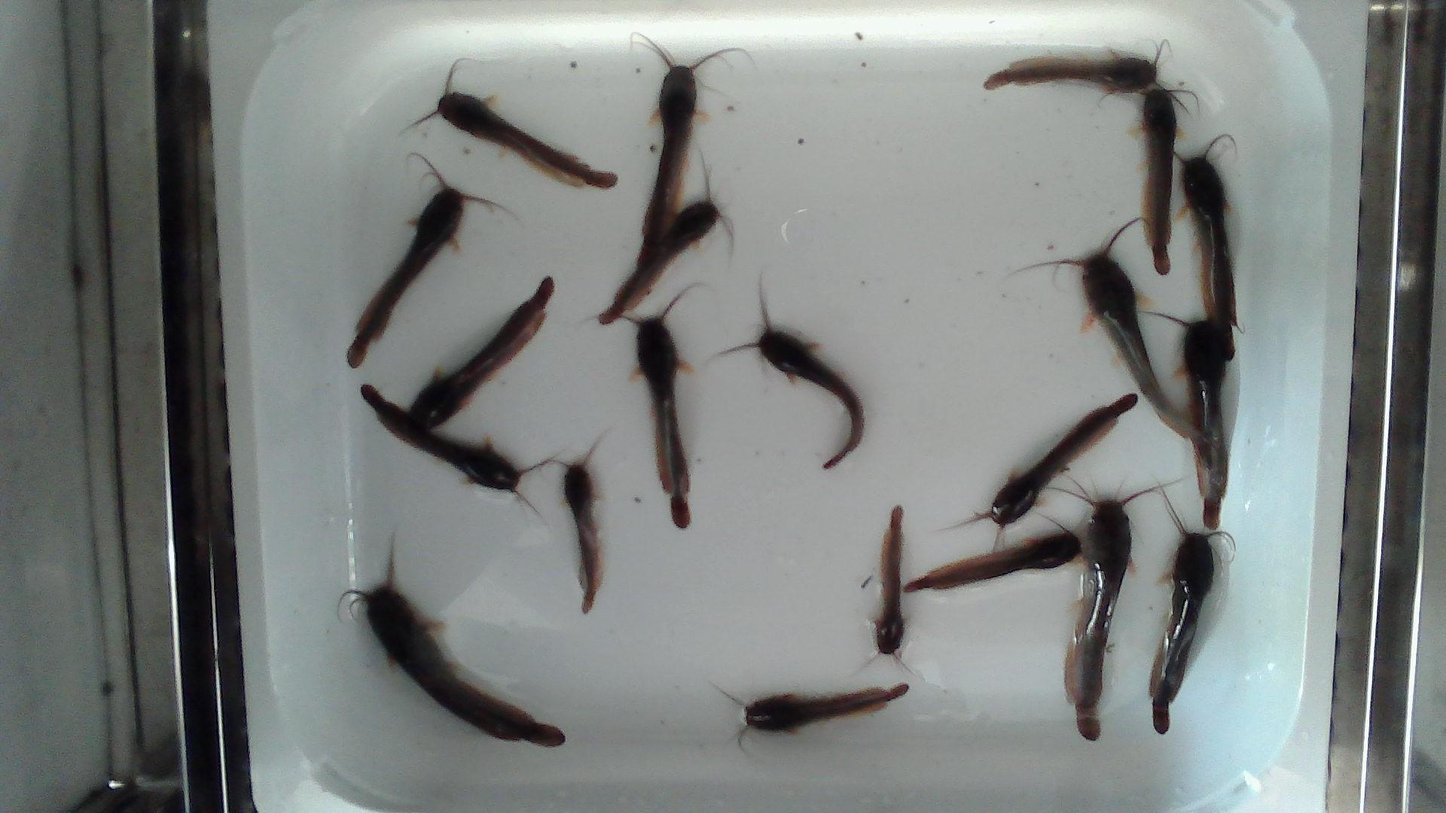lele: (1009, 214, 1194, 438), (358, 564, 565, 746), (347, 152, 509, 367), (948, 394, 1140, 550), (632, 30, 759, 265), (397, 52, 616, 188), (360, 383, 560, 514), (600, 145, 734, 328), (409, 276, 557, 431), (1140, 309, 1229, 533), (755, 314, 865, 468), (1065, 500, 1130, 740), (1174, 132, 1238, 365), (1149, 519, 1218, 733), (639, 318, 691, 528), (909, 531, 1081, 589), (743, 684, 908, 732), (984, 55, 1169, 94), (563, 446, 603, 614), (1141, 91, 1176, 274), (874, 507, 905, 654)
